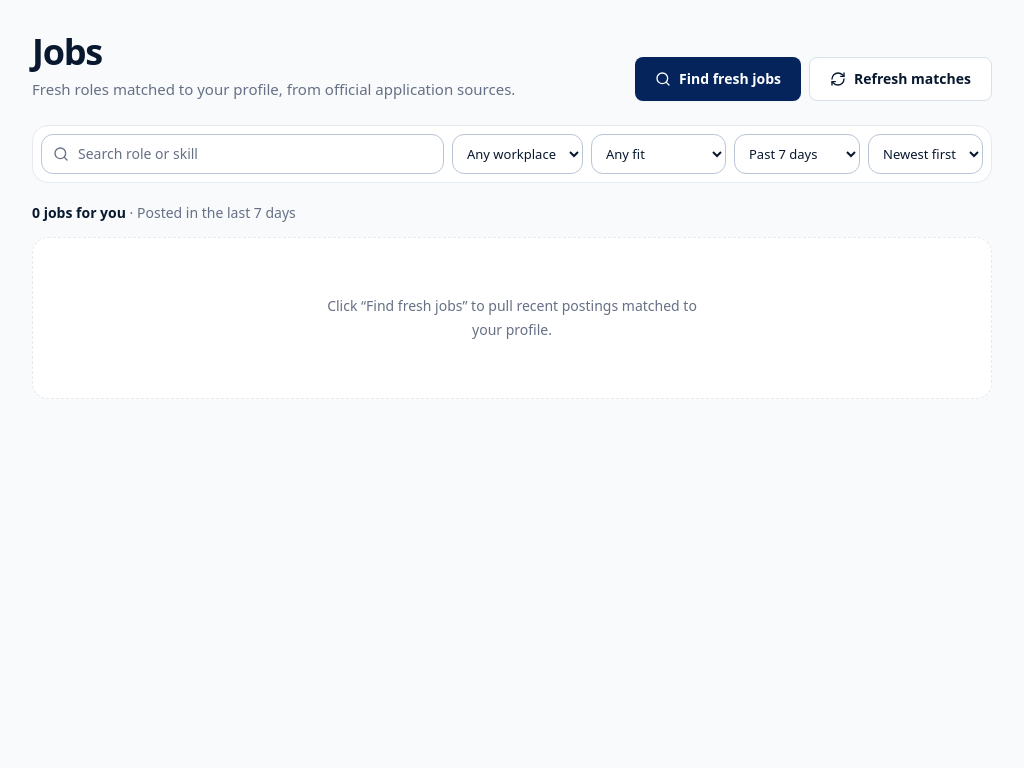
Test: JobDiscovery › filters visible jobs by role text
The width and height of the screenshot is (1024, 768).
Click the button "Find fresh jobs": [718, 78] box [635, 56, 801, 100]
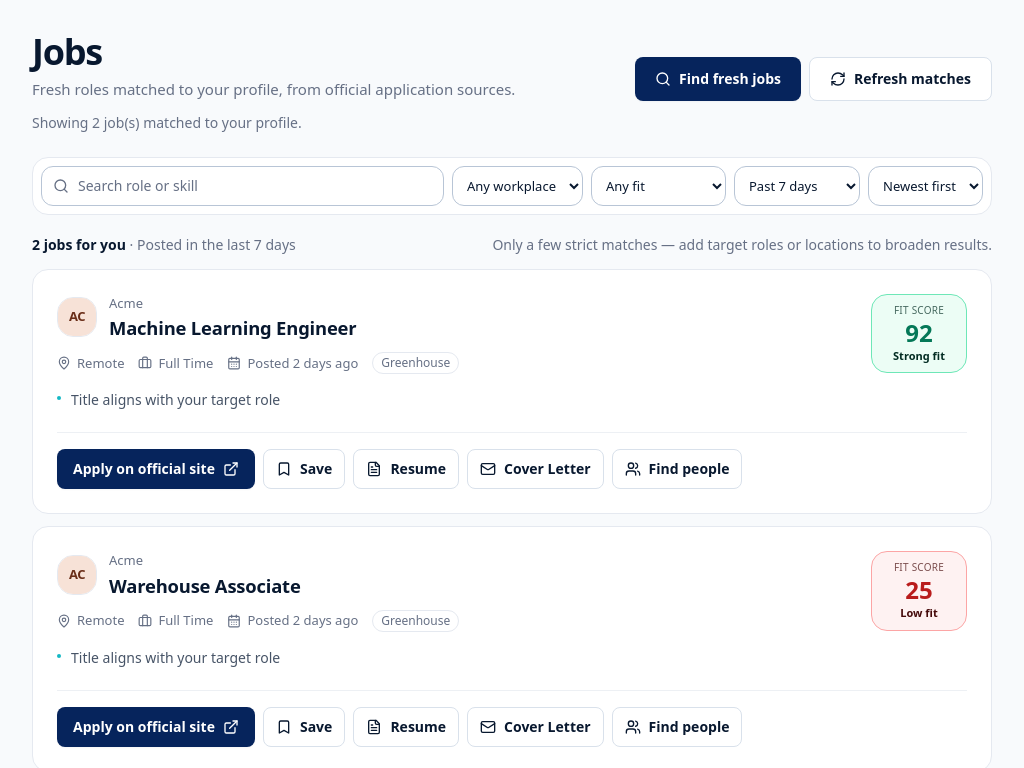
Expected: the button "Machine Learning Engineer" is shown, [109, 315, 356, 340]
Expected: the button "Warehouse Associate" is shown, [109, 573, 301, 598]
In the field labelled "role or skill": [242, 186] box [41, 166, 444, 206], type "warehouse"
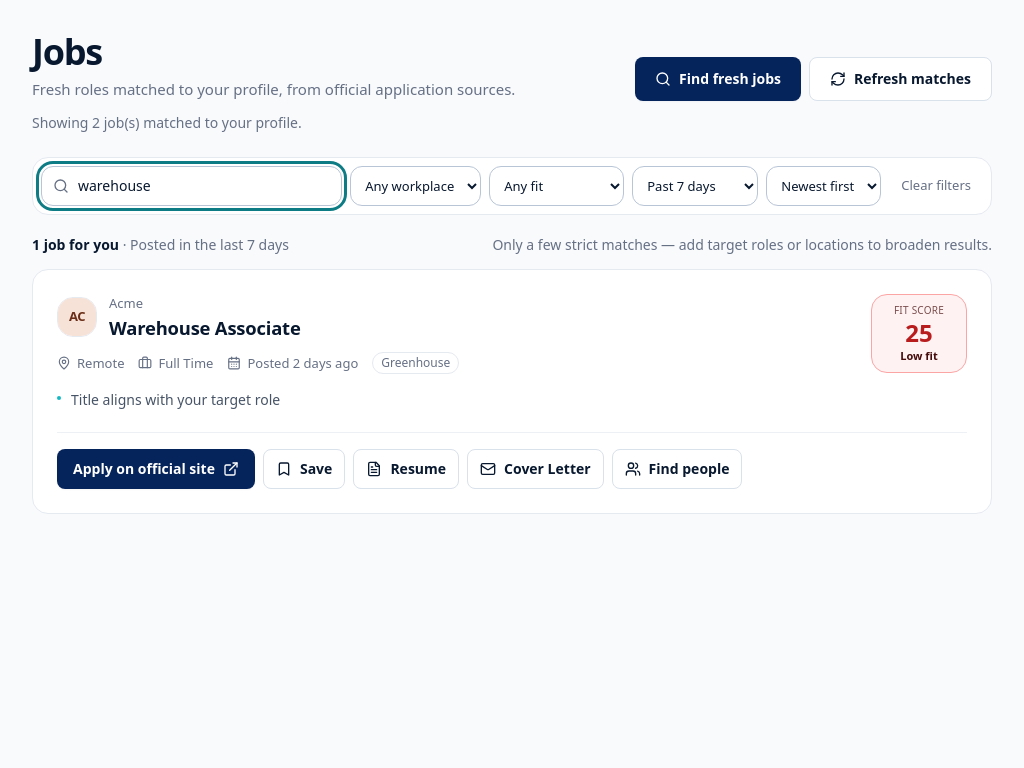
Expected: the button "Warehouse Associate" is shown, [109, 315, 301, 340]
Expected: the button "Machine Learning Engineer" is gone
